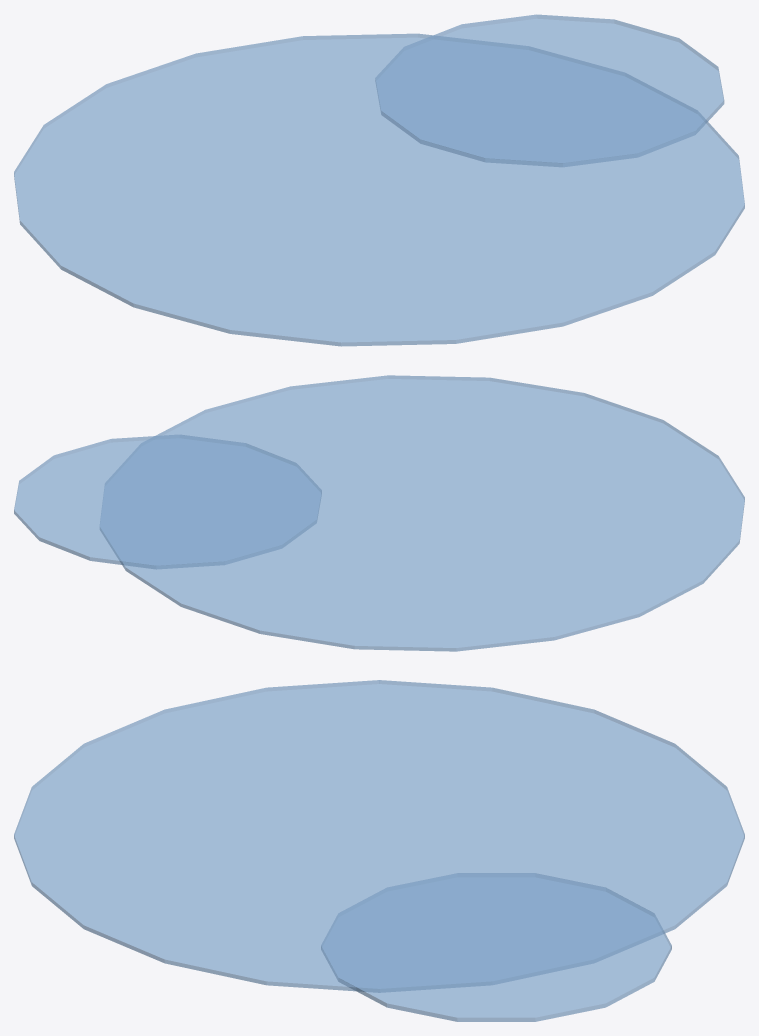
File: puddle.glb
3 renders of one model, top to bottom at view 1: azimuth 30°, elevation 25°; view 2: azimuth 150°, elevation 25°; view 3: azimuth 270°, elevation 25°, orthographic. The views are drawn at different scales.
Visible parts, largest first — view 1: puddle; view 2: puddle; view 3: puddle.
Part boxes in pixels (<box>): puddle: <box>14,14,744,346</box>; puddle: <box>14,375,744,651</box>; puddle: <box>14,680,744,1021</box>.
Bounding box in the file's own units: 0.547 × 0.0032 × 0.5.
